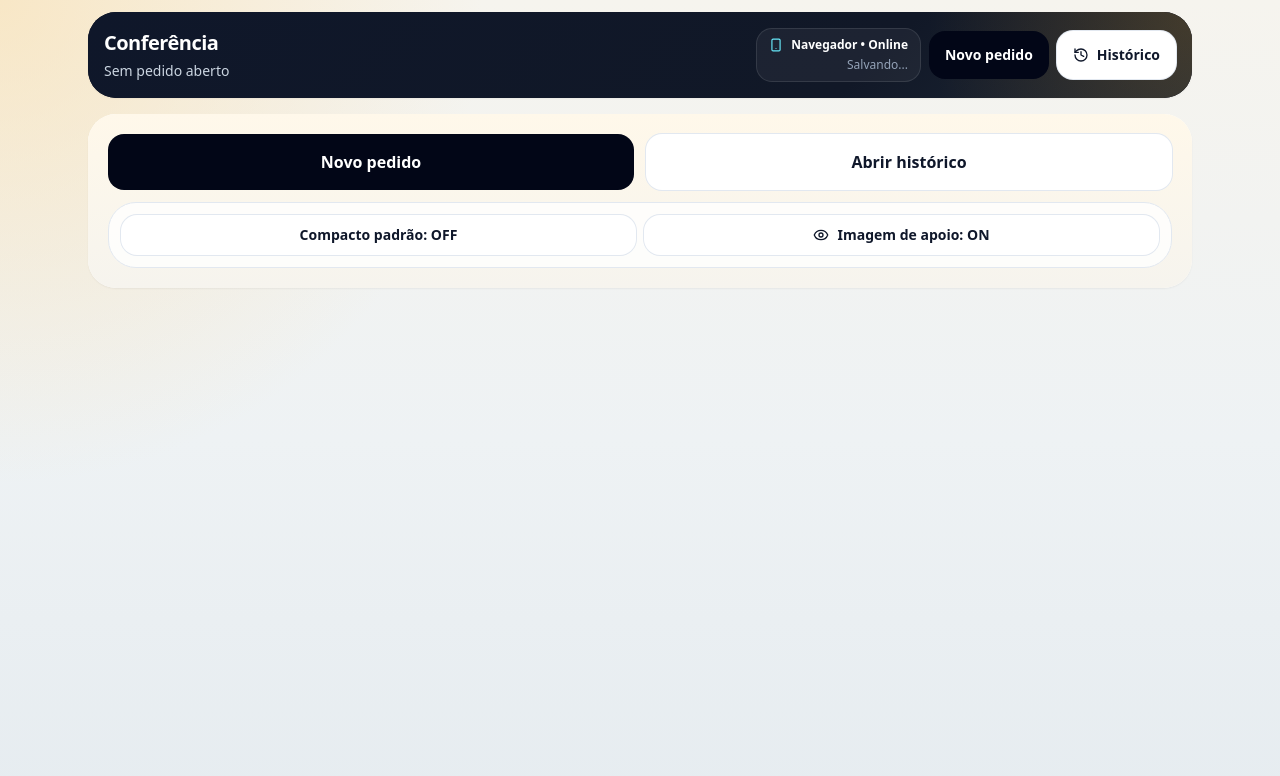
Scenario: App integration › bloqueia conclusão enquanto houver pendente
Click the button "Novo pedido" next to "Online". click: {"x": 989, "y": 55}
box: [929,31,1049,79]
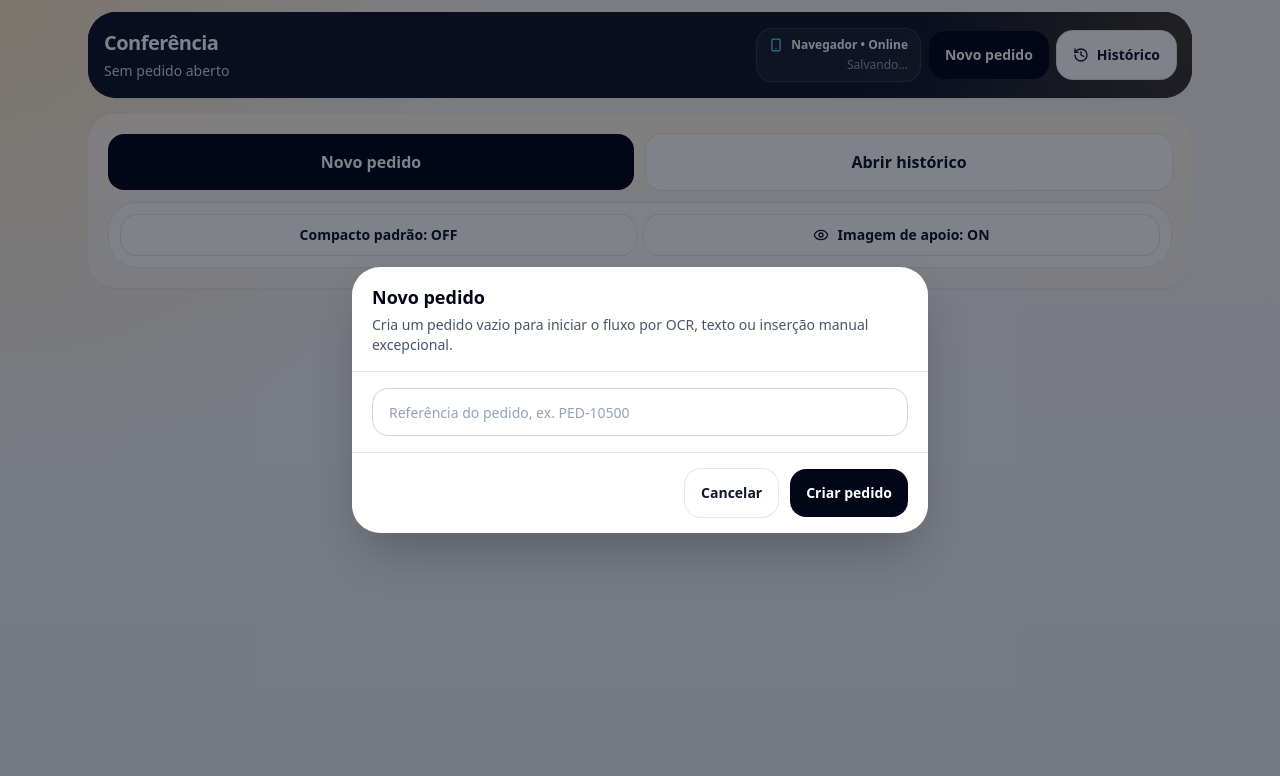
Click the button "Criar pedido". click: {"x": 849, "y": 493}
box: [790,469,908,517]
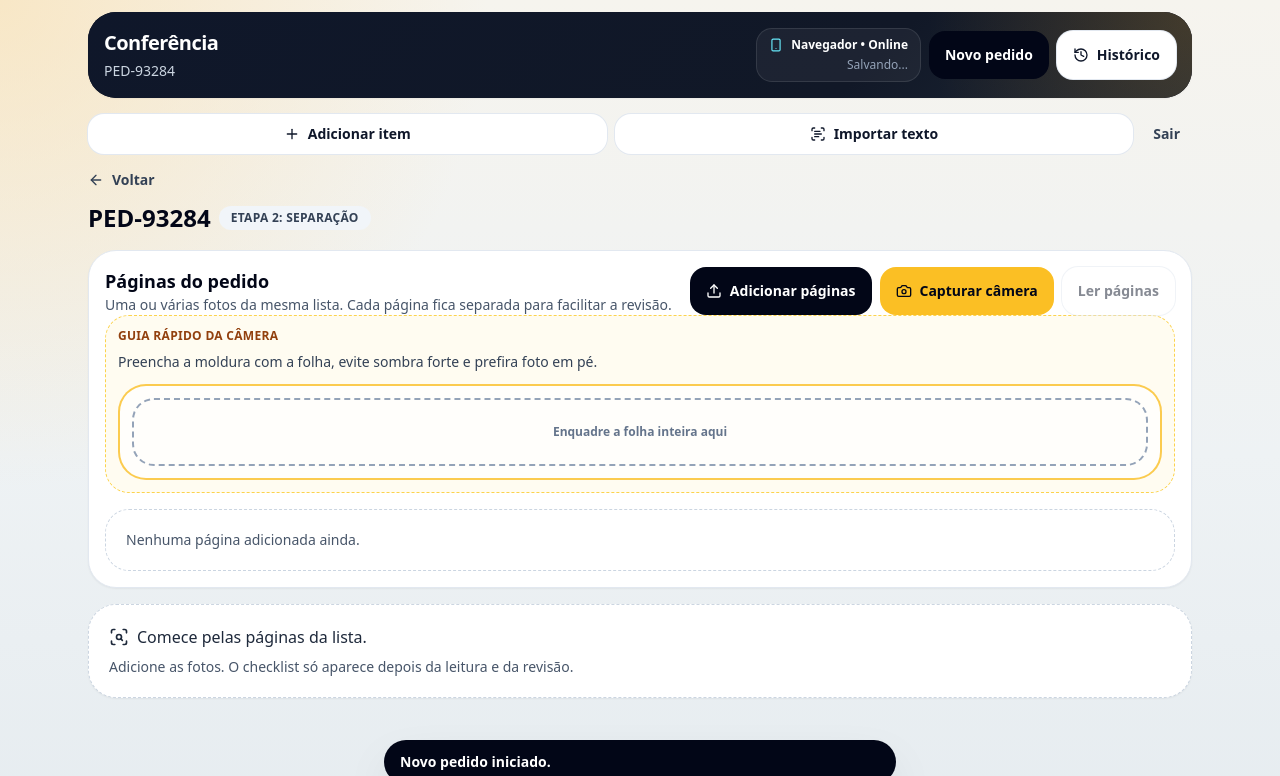
Click the button "Importar texto". click: {"x": 874, "y": 134}
box: [615,114,1133,154]
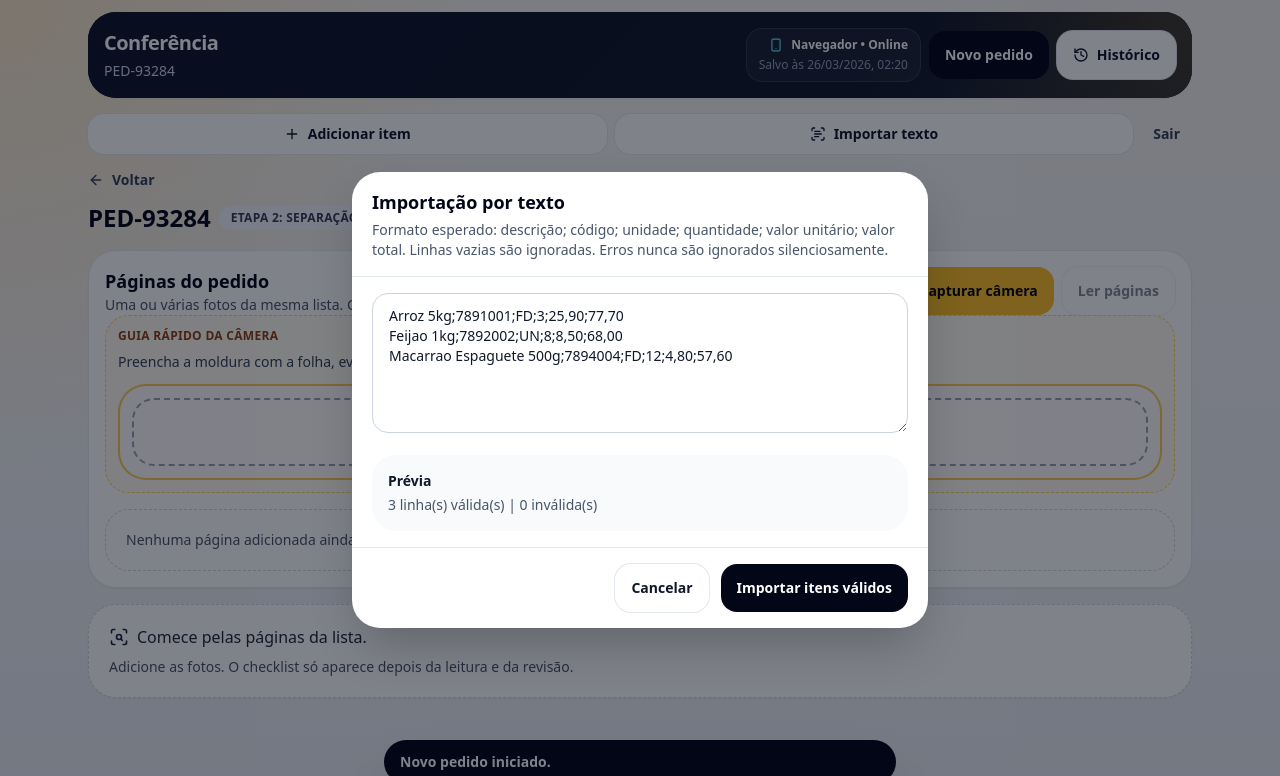
Replace the text in the text box with "Item Pendente QA;7891234;UN;1;2,00;2,00". click: {"x": 640, "y": 363}
box: [372,293,908,433]
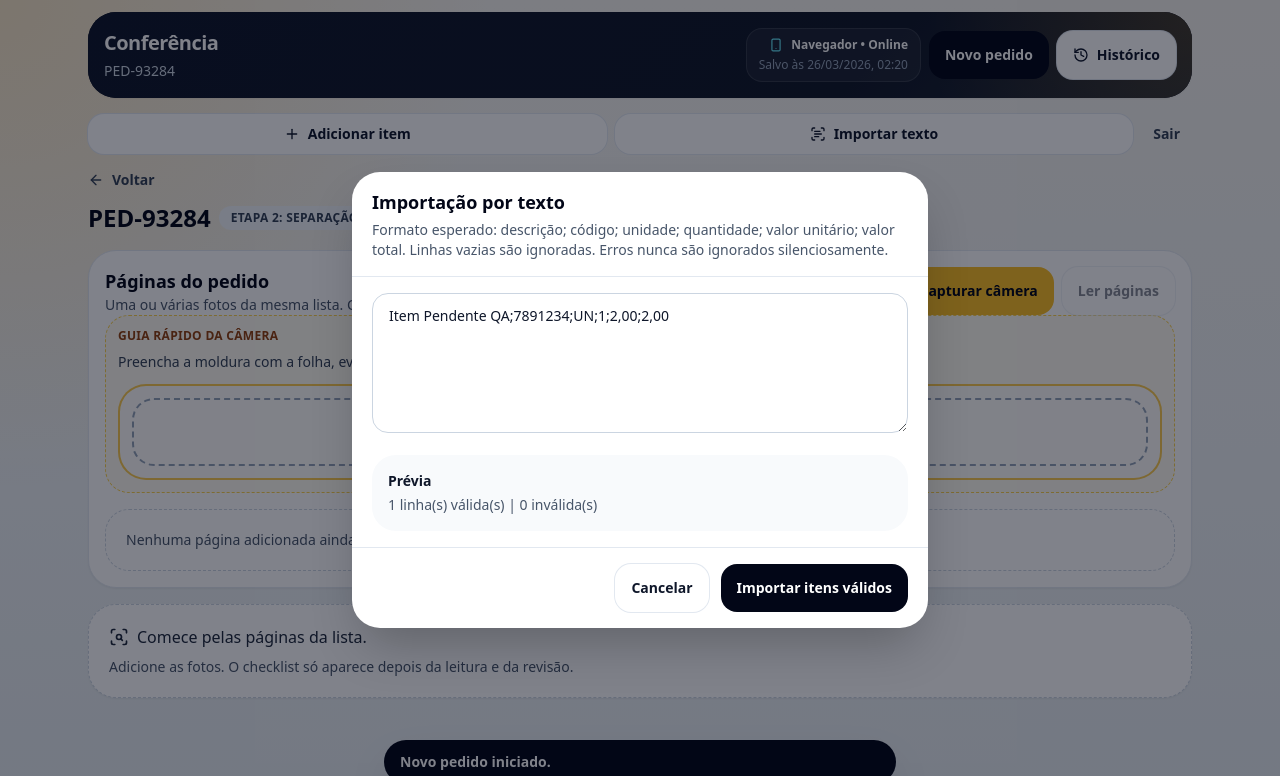
Click the button "Importar itens válidos". click: {"x": 814, "y": 588}
box: [720,564,908,612]
(page scrolled)
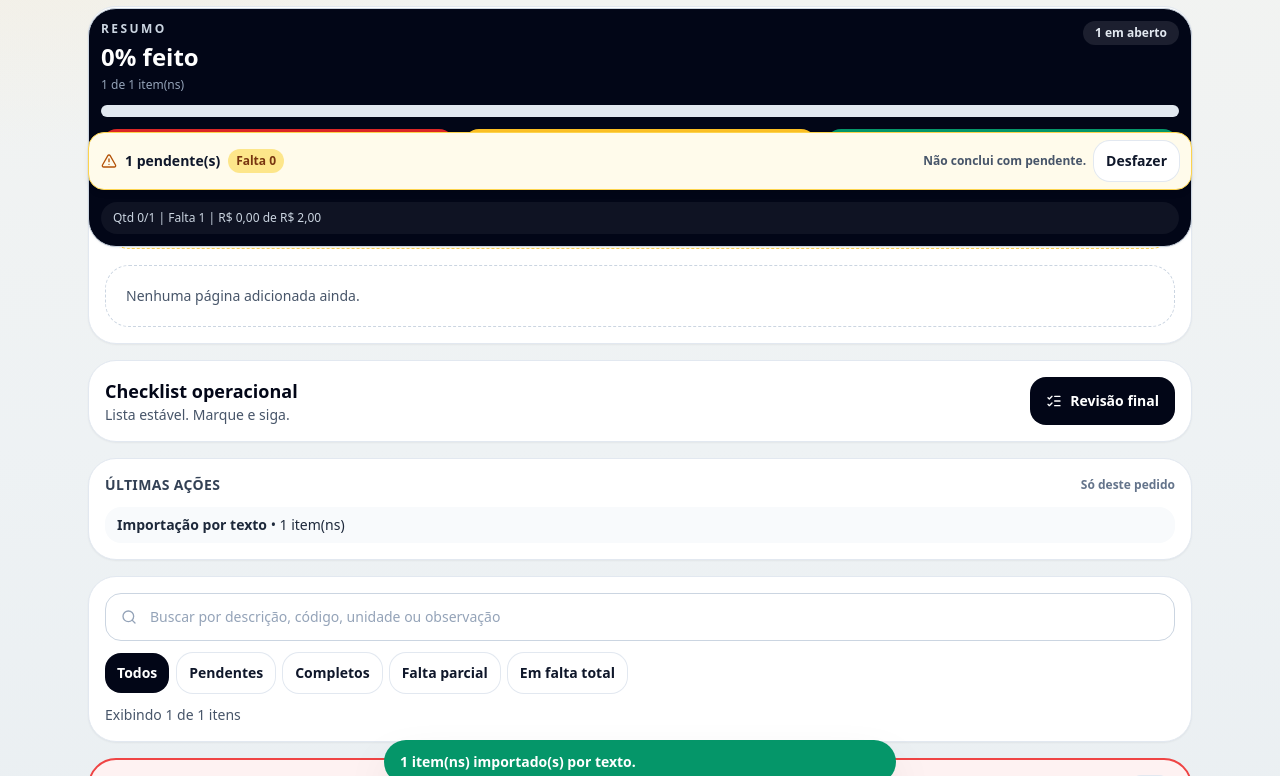
Click the button "Revisão final". click: {"x": 1103, "y": 400}
box: [1030,376,1175,424]
(page scrolled)
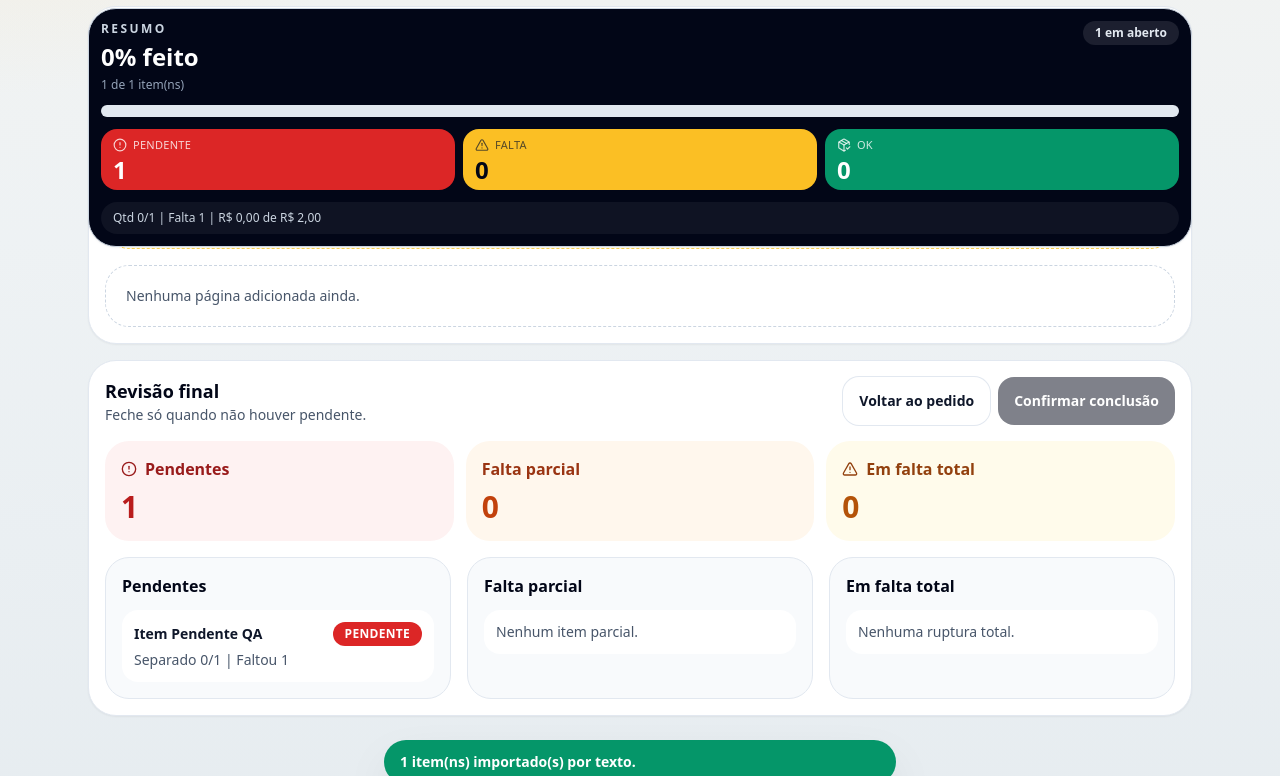
Expected: the button "Confirmar conclusão" is disabled, [998,376,1175,424]
Expected: the text "Pendentes" is shown, [121,458,230,480]
